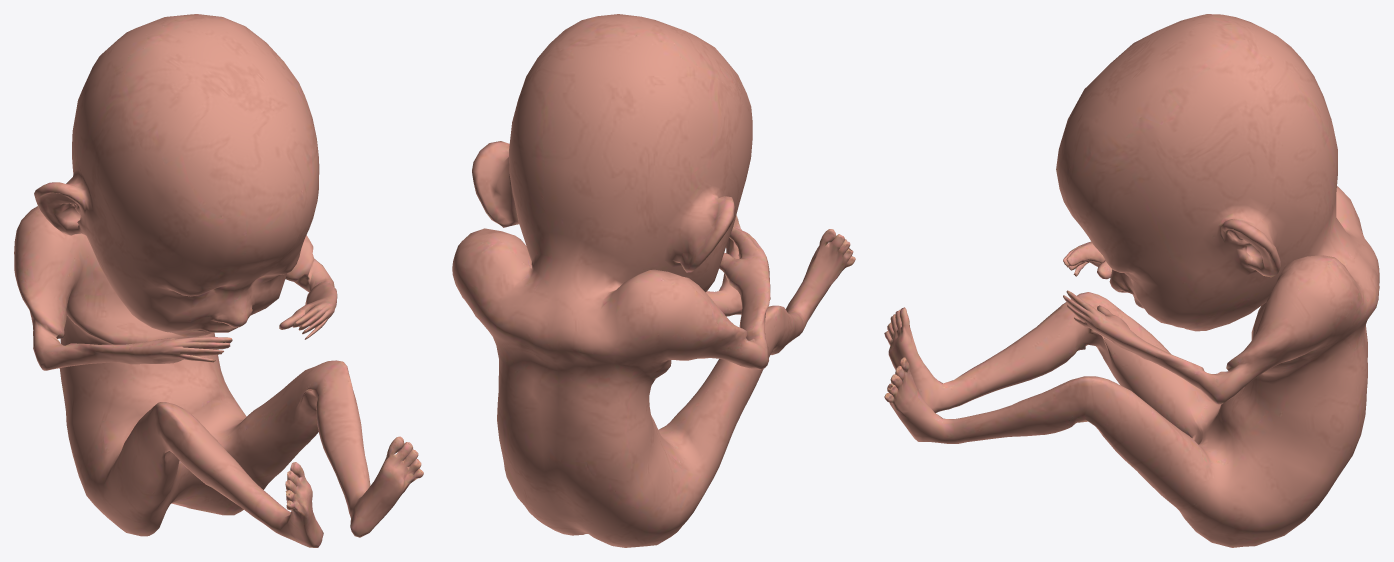
3 renders of one model, left to right at view 1: azimuth 30°, elevation 25°; view 2: azimuth 150°, elevation 25°; view 3: azimuth 270°, elevation 25°, orthographic.
Visible parts, largest first — view 1: Baby; view 2: Baby; view 3: Baby.
Boxes of the visible parts, left/top/right/bottom form: Baby: left=14, top=14, right=423, bottom=547; Baby: left=452, top=14, right=855, bottom=547; Baby: left=884, top=14, right=1379, bottom=547.
Bounding box in the file's own units: 0.0865 × 0.1413 × 0.1267.
Materials: 1 (1 with a texture image).
